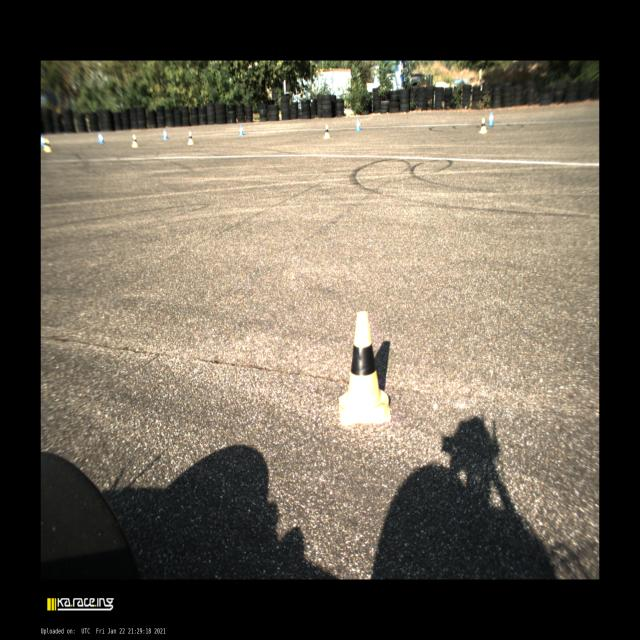blue_cone: (487, 113, 494, 125), (356, 118, 361, 130), (162, 129, 168, 139), (99, 133, 104, 144), (239, 125, 243, 135), (41, 136, 44, 146)
yellow_cone: (339, 312, 391, 426), (479, 118, 487, 133), (323, 125, 331, 138), (188, 131, 194, 145), (132, 134, 138, 148), (46, 141, 52, 152)
